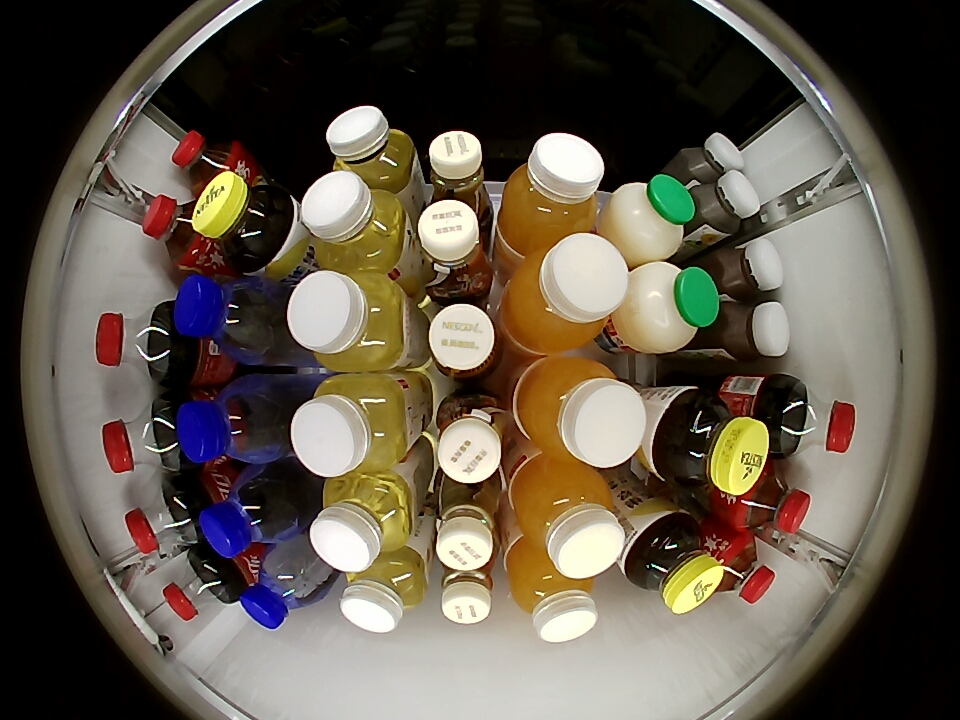aerbeisi: (173, 274, 282, 365), (176, 377, 286, 467), (198, 468, 302, 559), (239, 543, 329, 630)
binghongcha: (727, 463, 812, 536), (143, 194, 212, 270), (171, 129, 247, 195), (713, 532, 776, 605)
chacui: (651, 389, 770, 496), (193, 171, 297, 273), (624, 507, 723, 614)
chapai2: (291, 373, 415, 477), (287, 269, 409, 371), (301, 171, 408, 272), (310, 473, 414, 573), (326, 105, 417, 192), (340, 547, 428, 633)
kafei: (416, 199, 494, 301), (430, 472, 504, 572), (433, 392, 510, 484), (422, 131, 492, 223), (427, 303, 506, 384), (438, 558, 493, 625)
kele-b: (95, 303, 178, 383), (102, 398, 185, 475), (776, 380, 855, 457), (125, 480, 203, 557), (163, 549, 234, 621)
liziyuan: (615, 261, 719, 354), (602, 174, 695, 263)
weic: (501, 232, 629, 353), (512, 356, 646, 468), (507, 454, 624, 579), (498, 133, 605, 256), (505, 537, 598, 642)
youyanggudong: (691, 171, 761, 240), (717, 300, 791, 362), (713, 239, 784, 301), (674, 133, 744, 187)
